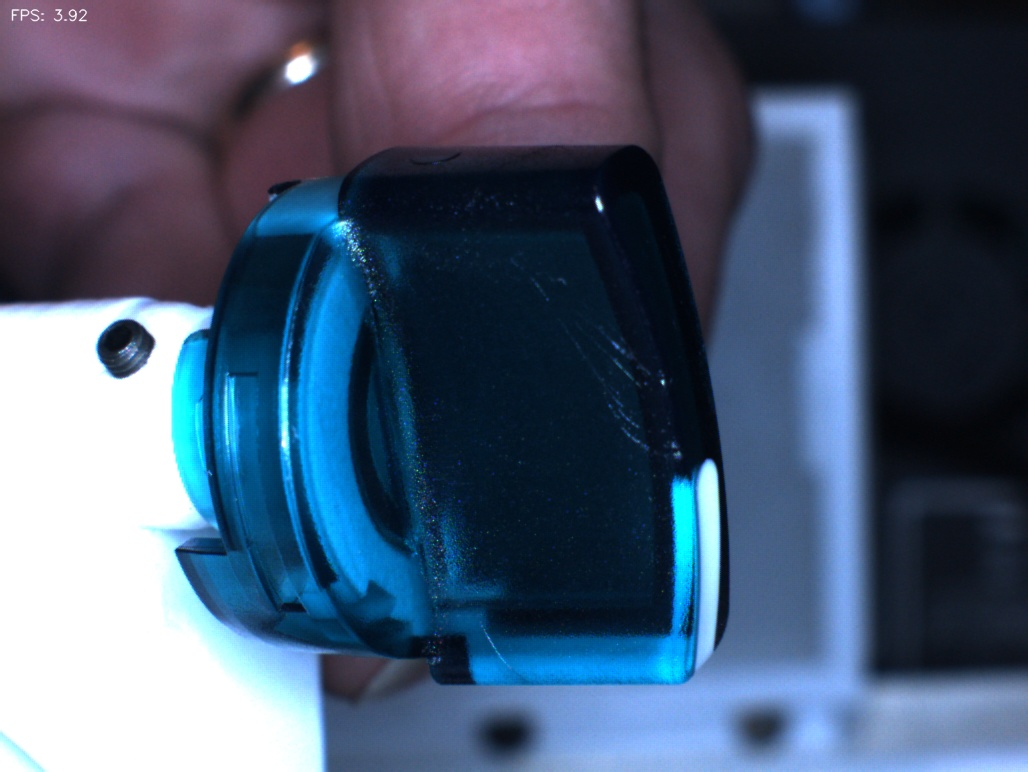Givrage: (521, 264, 688, 465)
